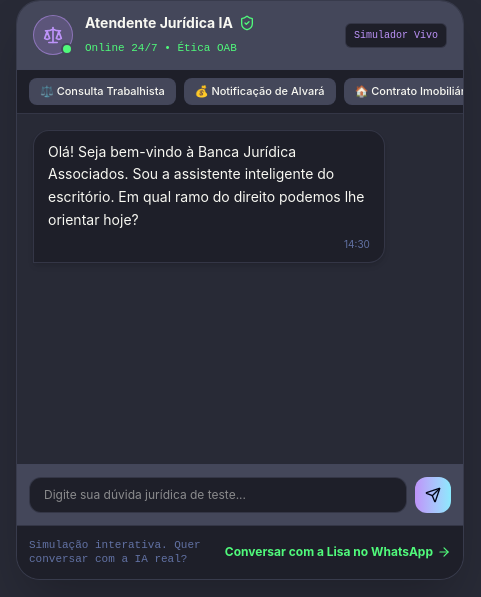
WhatsAppSimulator Component › shows Yes/No buttons after capturing topic and handles "sim" without repeating doubt template
The width and height of the screenshot is (481, 597).
Type "inventário" into the field with placeholder "Digite sua dúvida jurídica de teste..." at (218, 495), box x1=29 y1=477 x2=407 y2=513
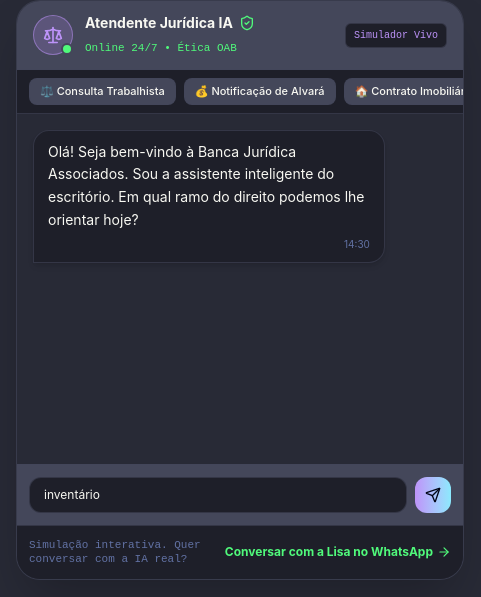
Submit the form with placeholder "Digite sua dúvida jurídica de teste", box x1=17 y1=464 x2=463 y2=525
Wait 1300 ms
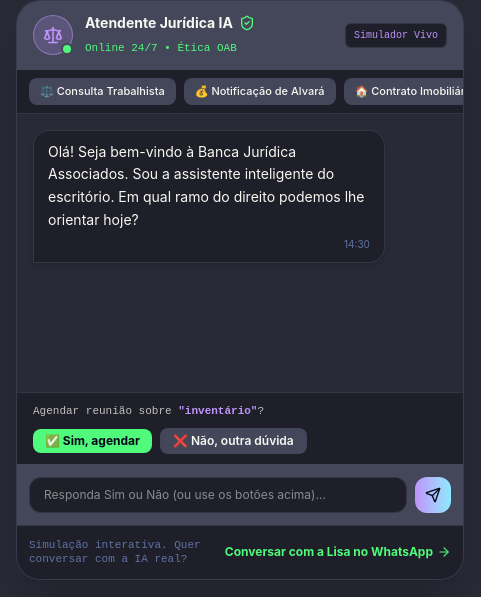
expect the element with test id "chat-meeting-confirmation-actions" is shown: met, box x1=17 y1=392 x2=463 y2=464
expect the button with test id "chat-confirm-yes" is shown: met, box x1=33 y1=429 x2=152 y2=453
expect the button with test id "chat-confirm-no" is shown: met, box x1=160 y1=428 x2=307 y2=454
# User types "sim" instead of clicking button
Type "sim" into the field with placeholder "Responda Sim ou Não (ou use os botões acima)..." at (218, 495), box x1=29 y1=477 x2=407 y2=513
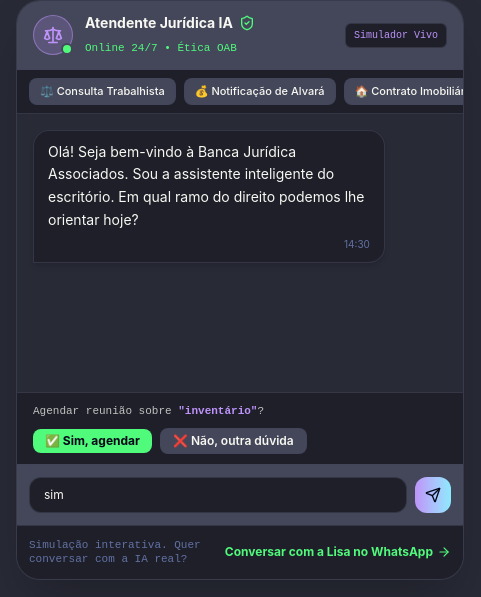
Submit the form with placeholder "Digite sua dúvida jurídica de teste", box x1=17 y1=464 x2=463 y2=525
Wait 1300 ms
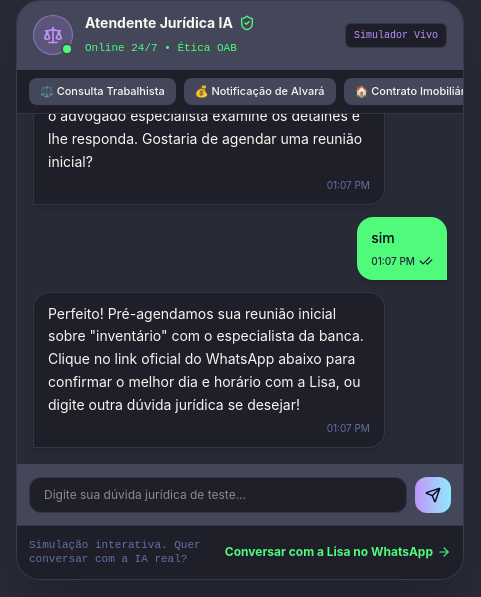
expect the text "Pré-agendamos sua reunião inicial sobre \"inventário\"" is shown: met, box x1=48 y1=304 x2=364 y2=412
expect the element with test id "chat-meeting-confirmation-actions" is gone: met
